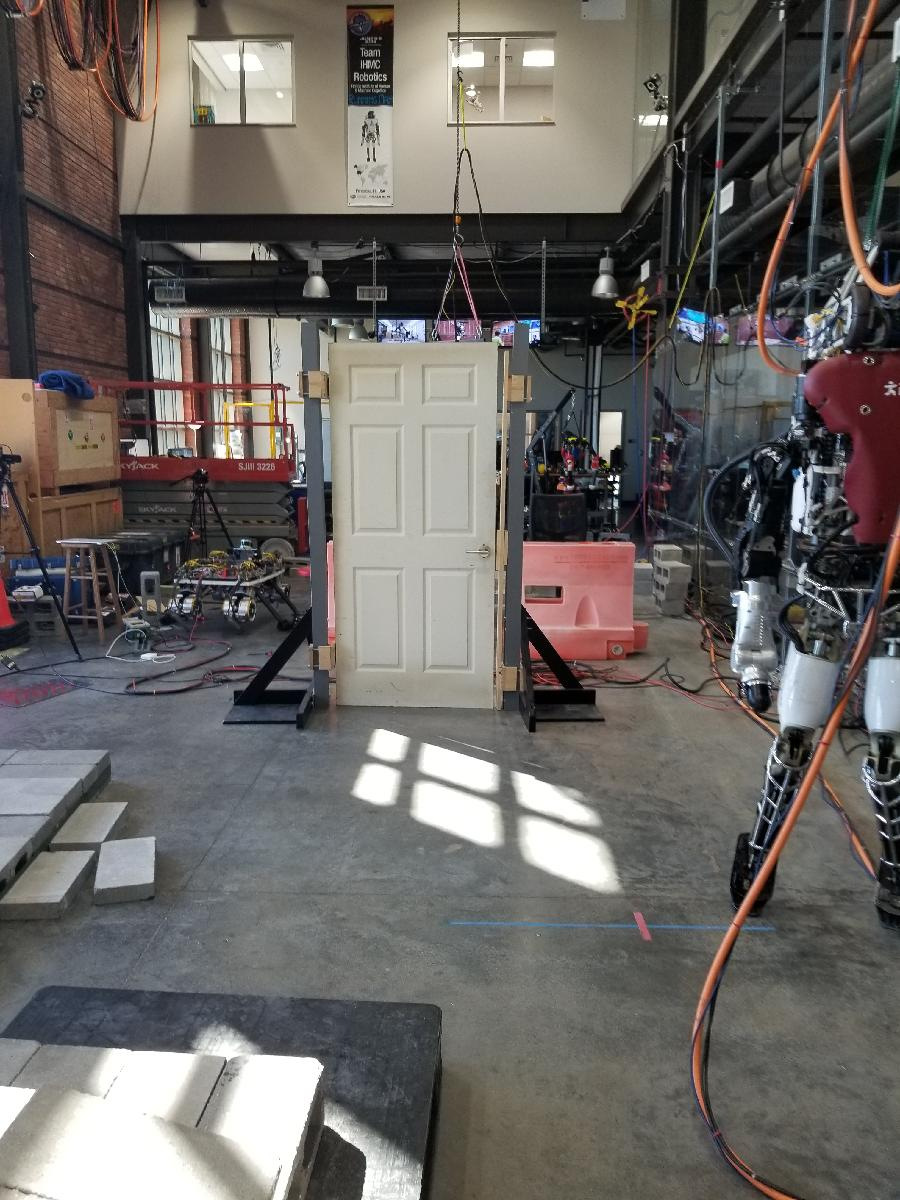door: (325, 338, 506, 719)
doorHandle: (464, 540, 493, 559)
